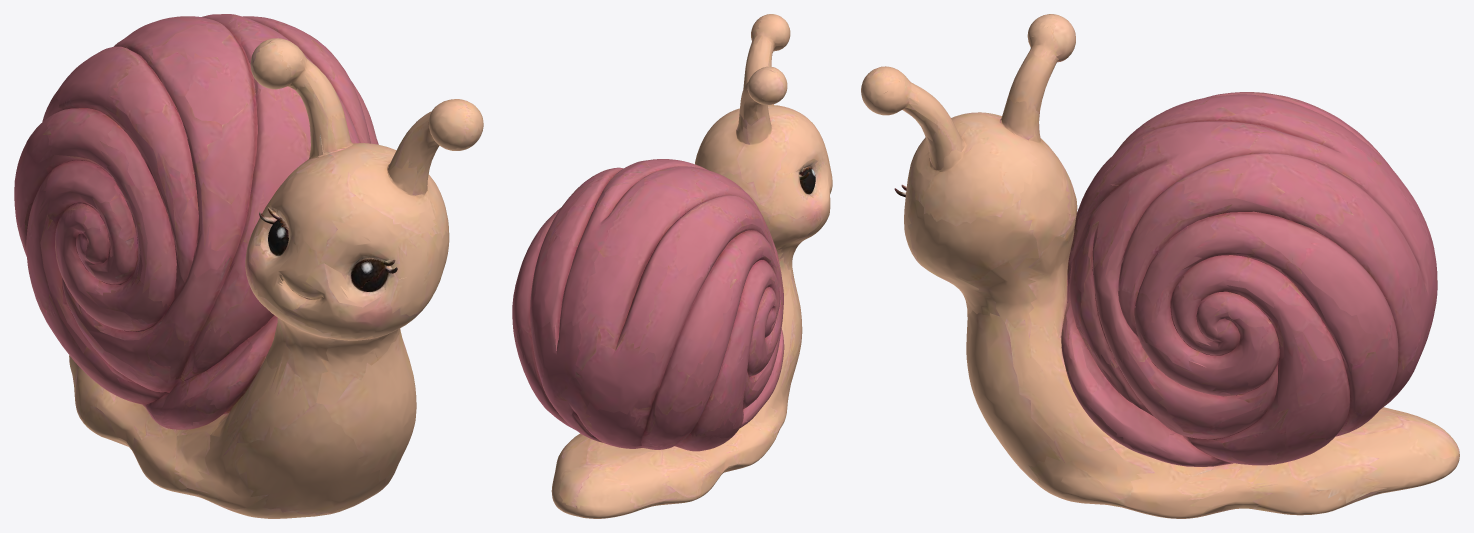
3 renders of one model, left to right at view 1: azimuth 30°, elevation 25°; view 2: azimuth 150°, elevation 25°; view 3: azimuth 270°, elevation 25°, orthographic. The views are drawn at different scales.
Visible parts, largest first — view 1: output_unwrapped; view 2: output_unwrapped; view 3: output_unwrapped.
Part boxes in pixels (<box>): output_unwrapped: <box>14,14,483,518</box>; output_unwrapped: <box>512,14,832,518</box>; output_unwrapped: <box>861,14,1459,518</box>.
Size of the model in its own units: 1.02 by 1.55 by 1.9.
Materials: 1 (1 with a texture image).
